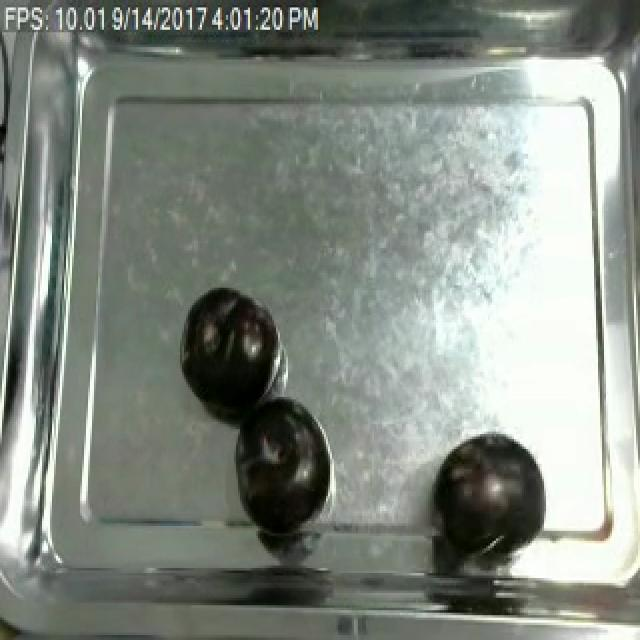Fruit: (428, 432, 550, 556), (234, 392, 332, 533), (176, 283, 278, 417)
